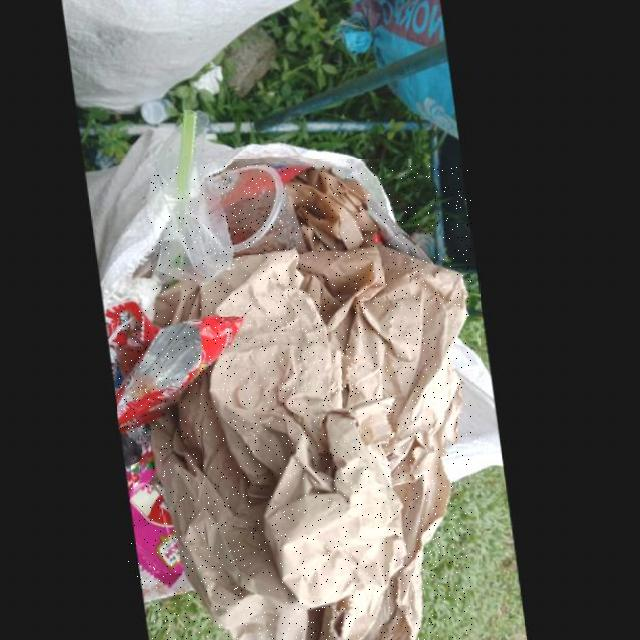paper: (152, 165, 472, 640)
wrapper: (117, 310, 253, 433), (127, 423, 185, 588)
